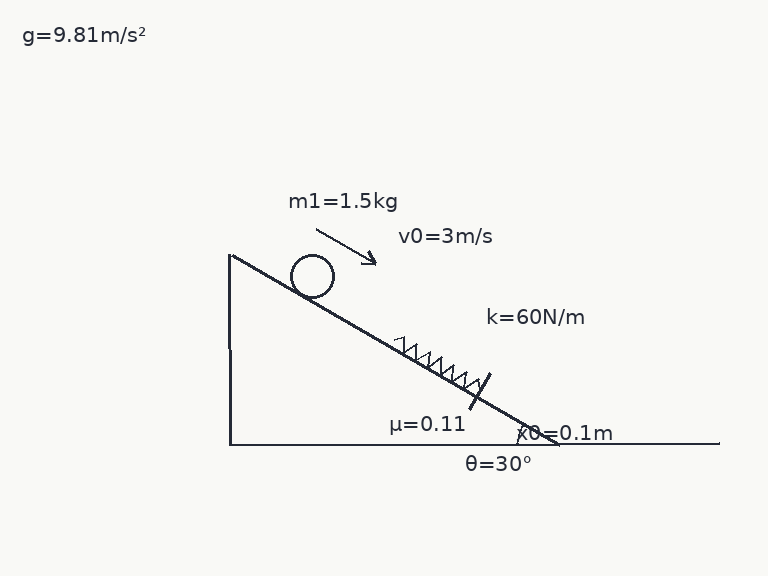ball: (288, 252, 336, 300)
ramp: (228, 252, 560, 446)
spring: (393, 335, 482, 391)
